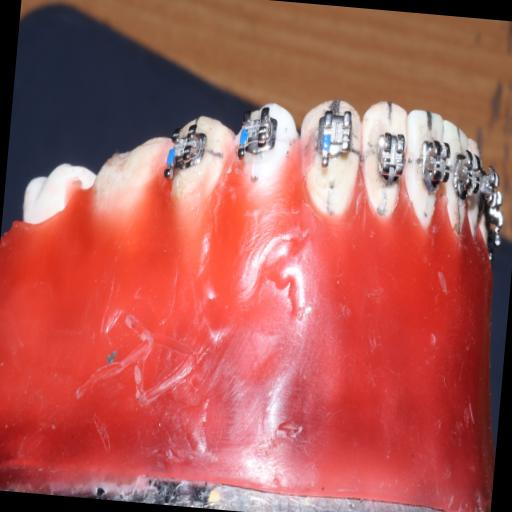correct_brace: (371, 125, 409, 190)
incorrect_brace: (353, 90, 412, 226), (308, 102, 357, 172)
